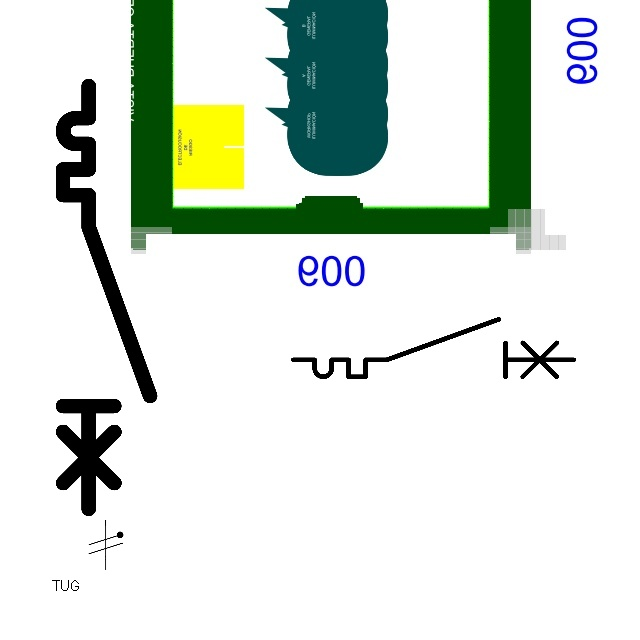interruptor_termomagnetico: (52, 75, 161, 520), (286, 312, 580, 384)
